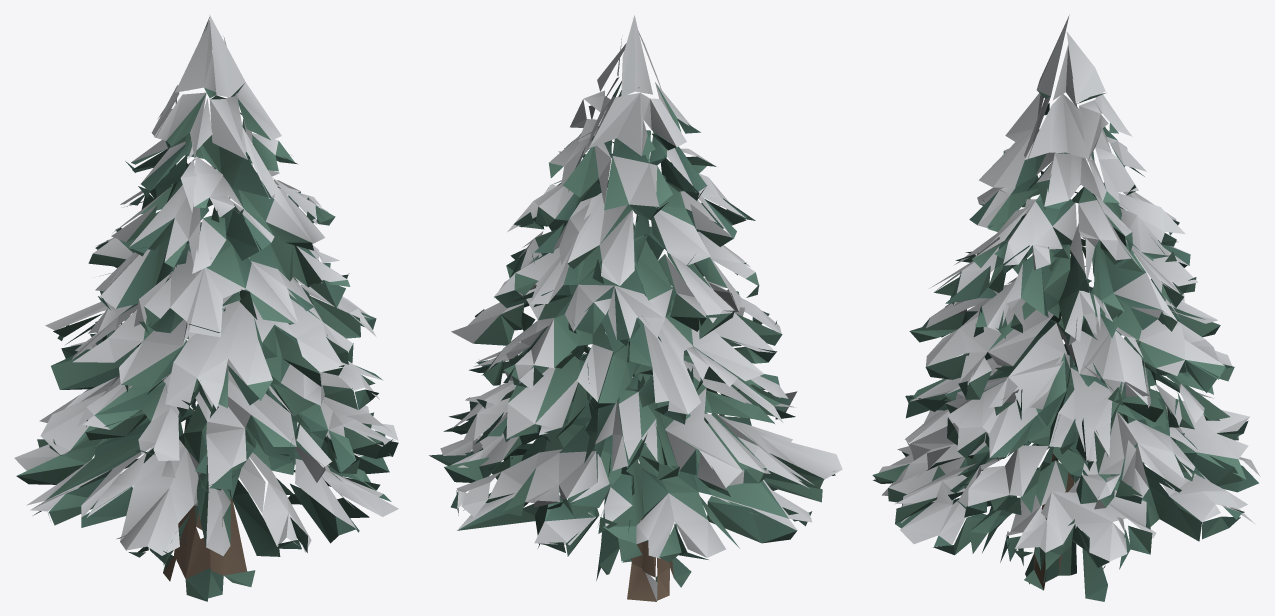
The model's file is meshy-tree-3.glb.
The picture shows the model from 3 angles, left to right: view 1: azimuth 30°, elevation 25°; view 2: azimuth 150°, elevation 25°; view 3: azimuth 270°, elevation 25°; orthographic projection.
Visible parts, largest first — view 1: meshy_tree; view 2: meshy_tree; view 3: meshy_tree.
Boxes of the visible parts, x1,y1,x2,y2 form: meshy_tree: (14,14,398,601); meshy_tree: (429,15,842,601); meshy_tree: (872,14,1260,601).
Size of the model in its own units: 4.22 by 6.39 by 3.92.
